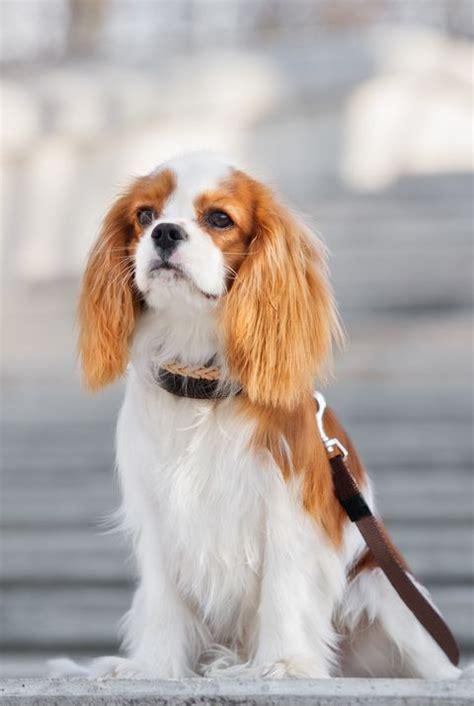dog: (78, 155, 455, 681)
